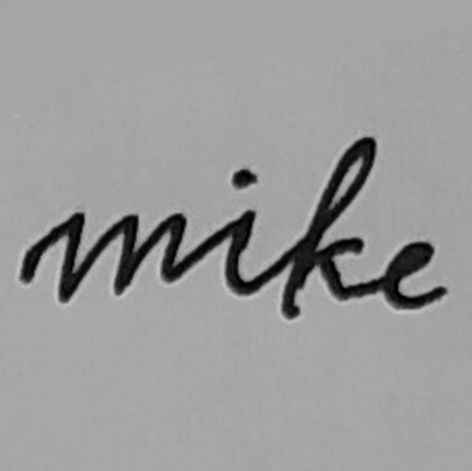e: (382, 237, 453, 314)
i: (207, 163, 267, 304)
k: (274, 132, 380, 325)
m: (52, 200, 192, 307)
